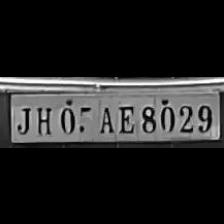0: (56, 100, 76, 132), (158, 100, 176, 132)
2: (176, 100, 194, 132)
8: (138, 100, 158, 132)
9: (194, 100, 212, 132)
A: (96, 100, 114, 134)
E: (115, 99, 135, 133)
H: (32, 100, 54, 134)
J: (12, 100, 32, 134)
